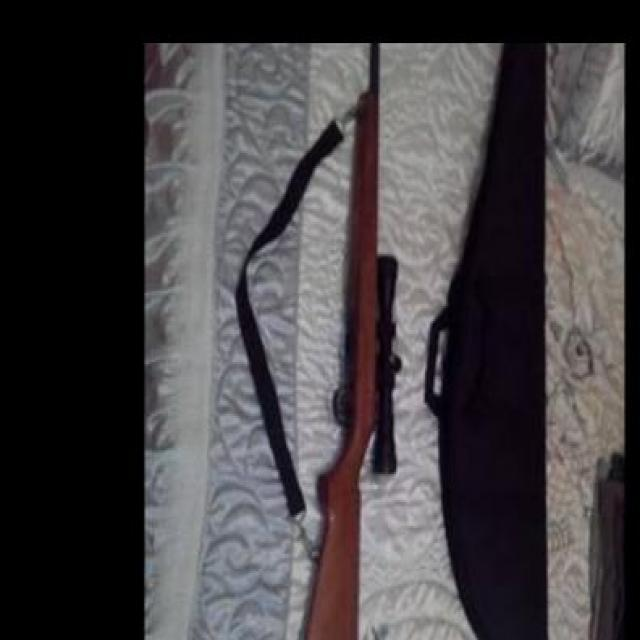weapon: (298, 44, 403, 640)
